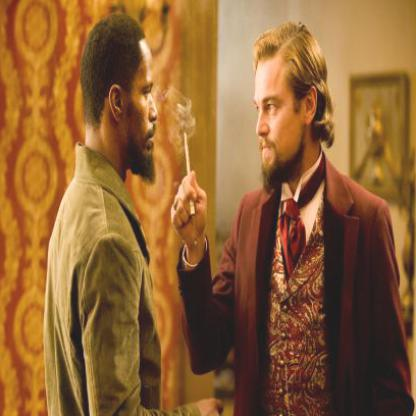cigarette: (182, 129, 197, 217)
person: (232, 20, 410, 415), (50, 15, 168, 415)
smoke: (175, 100, 194, 146)
